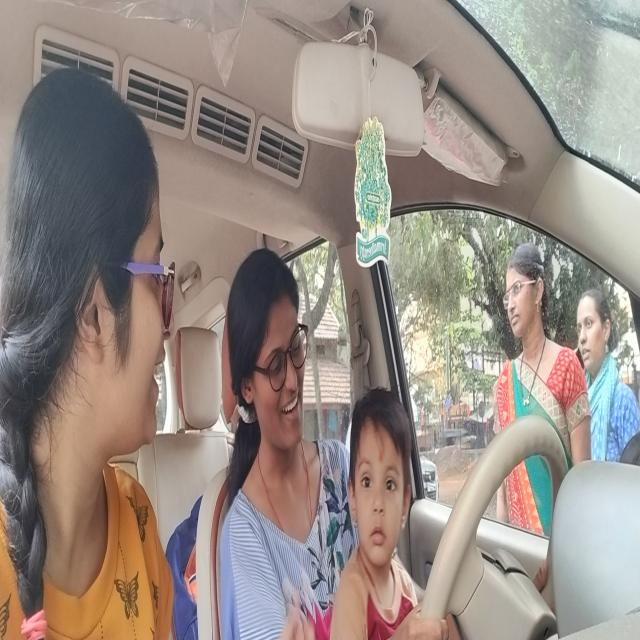child: (341, 370, 414, 580)
person: (3, 65, 183, 516), (224, 251, 318, 473)
